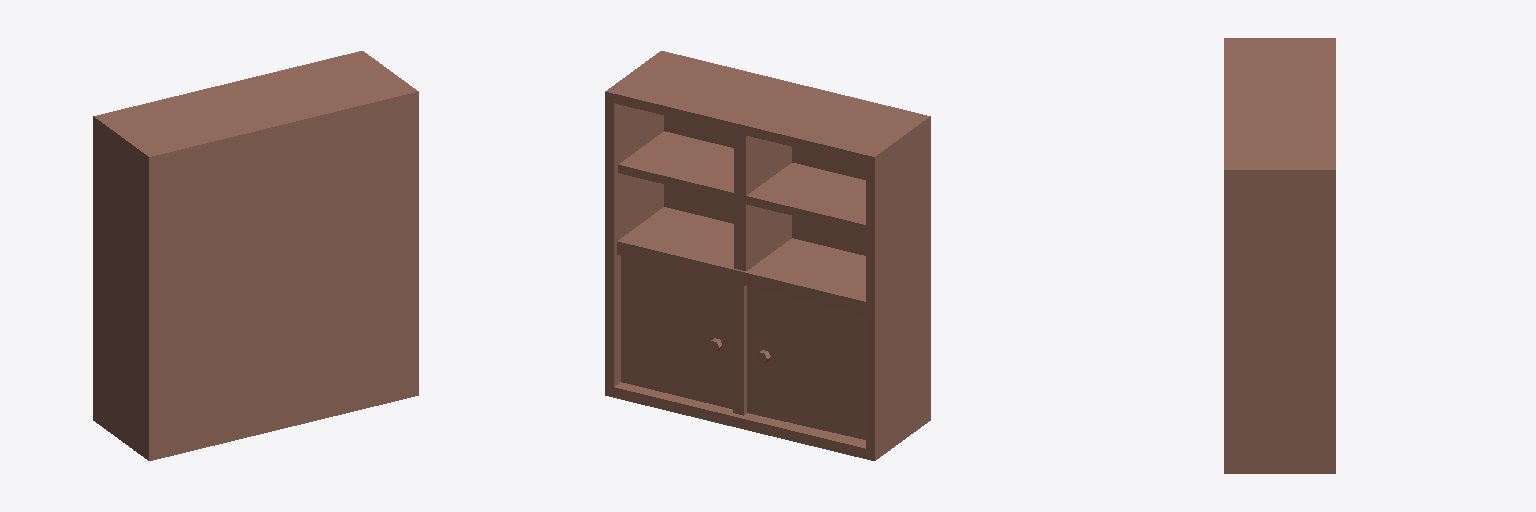
The picture shows the model from 3 angles: view 1: azimuth 30°, elevation 25°; view 2: azimuth 150°, elevation 25°; view 3: azimuth 270°, elevation 25°; orthographic projection.
Parts seen in each view (by area): view 1: bookshelf:name3; view 2: bookshelf:name3; view 3: bookshelf:name3.
Boxes of the visible parts, <box> form: bookshelf:name3: <box>93,51,418,460</box>; bookshelf:name3: <box>605,51,930,460</box>; bookshelf:name3: <box>1224,38,1335,473</box>.
Size of the model in its own units: 4.3 by 4.64 by 1.55.
Materials: 1 (1 with a texture image).